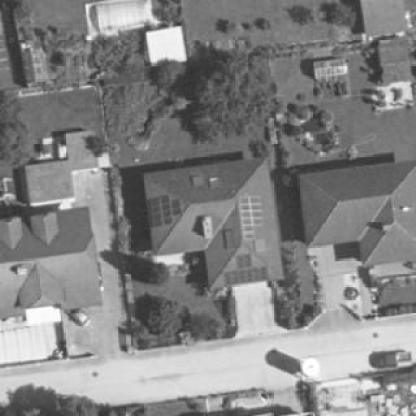solar-pv-panel: (223, 254, 268, 286), (148, 193, 182, 229), (239, 196, 262, 240)
